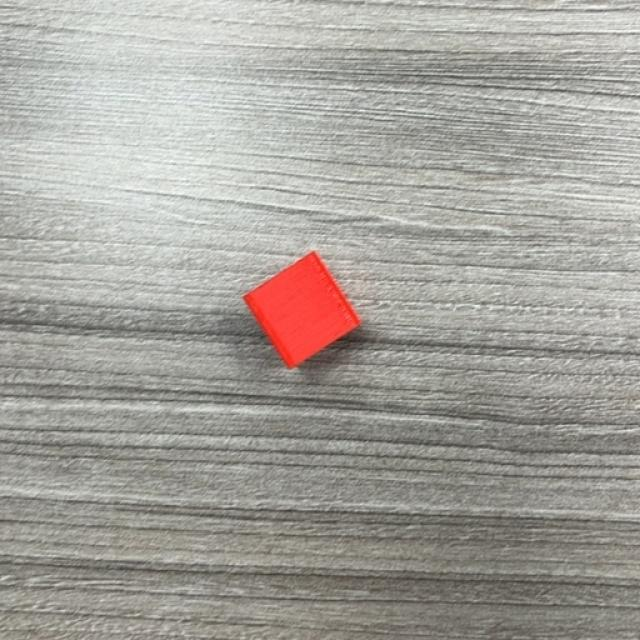Rojo: (242, 251, 362, 369)
